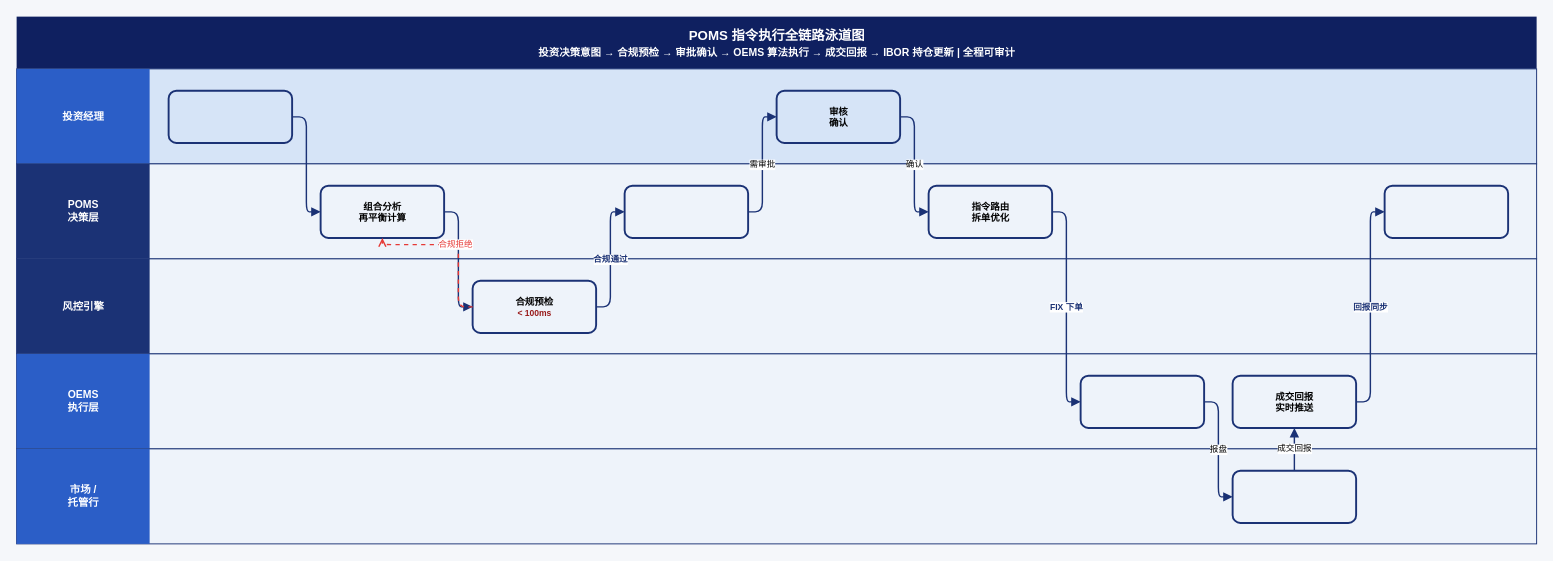
This 1553x561 diagram has some shape labels left out. Here are the shapes that lost their labels. From the top down, the box of each, then its label:
(167, 89, 293, 143): 制定 投资决策意图
(623, 184, 749, 238): 生成指令包 批量审批
(1383, 184, 1509, 238): IBOR 同步 持仓更新
(1079, 374, 1205, 428): 算法执行 FIX 协议
(1231, 469, 1357, 523): 市场确认 清算结算
